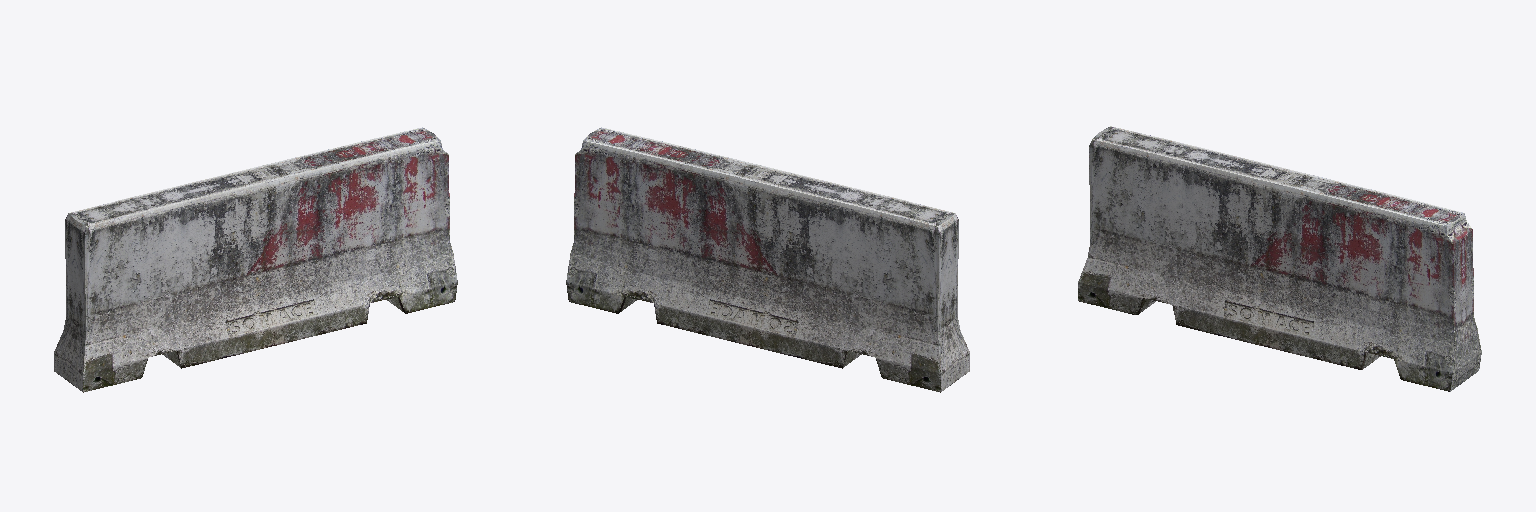
3 views of the same model, side by side, from view 1: azimuth 30°, elevation 25°; view 2: azimuth 150°, elevation 25°; view 3: azimuth 330°, elevation 25° (orthographic).
Visible parts, largest first — view 1: Blocks; view 2: Blocks; view 3: Blocks.
Part boxes in pixels (bbox=[...]): Blocks: bbox=[54, 127, 457, 392]; Blocks: bbox=[566, 127, 969, 392]; Blocks: bbox=[1078, 126, 1481, 391].
Bounding box in the file's own units: 154 × 63.18 × 20.75.
Materials: 1 (1 with a texture image).